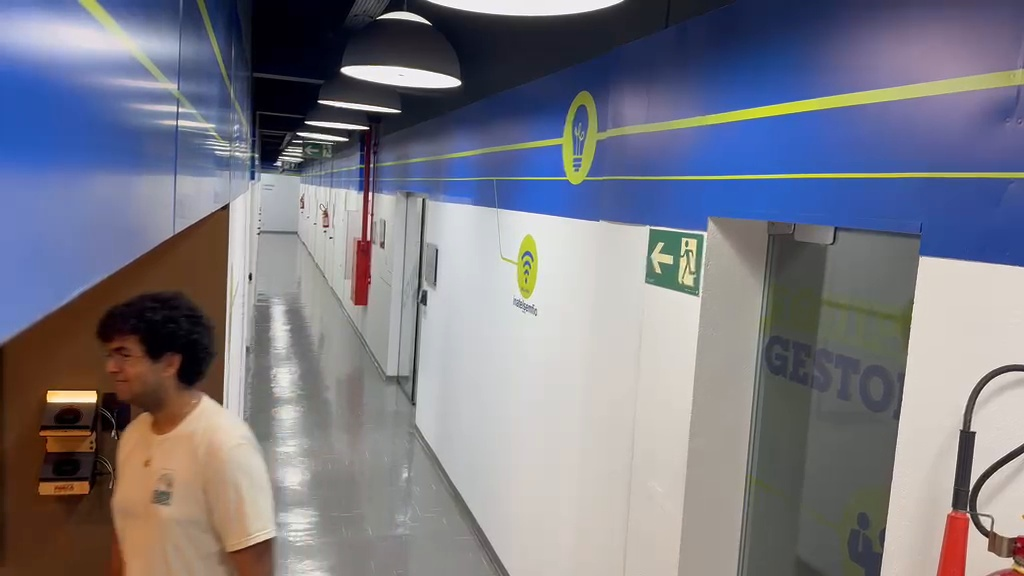person: (94, 290, 277, 572)
